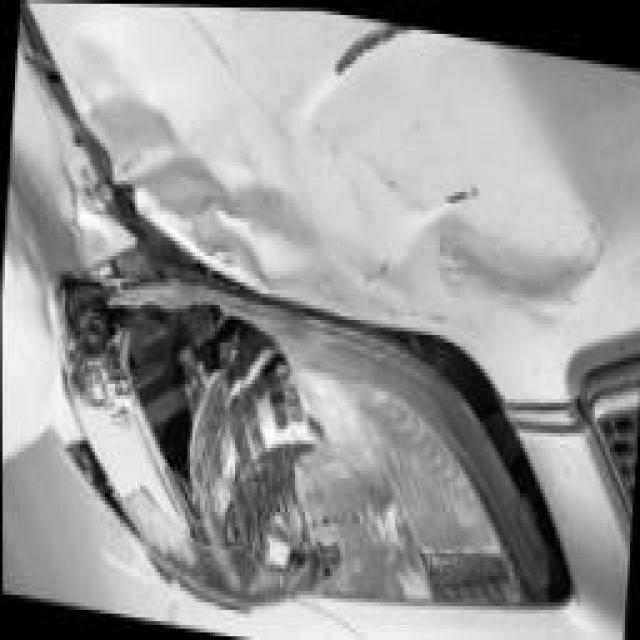Bonnet: (42, 0, 611, 358)
Bumper: (2, 493, 381, 640)
Fender: (0, 139, 99, 405)
Light: (62, 279, 364, 588)
